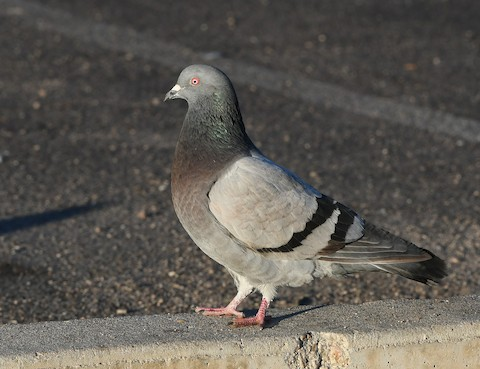pigeon: (162, 63, 451, 329)
